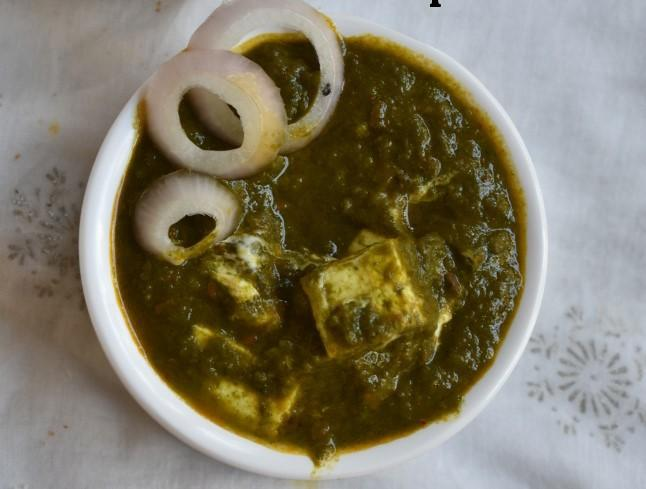PalakPaneer: (115, 31, 525, 455)
